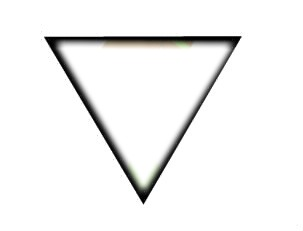triangulo: (44, 36, 242, 205)
